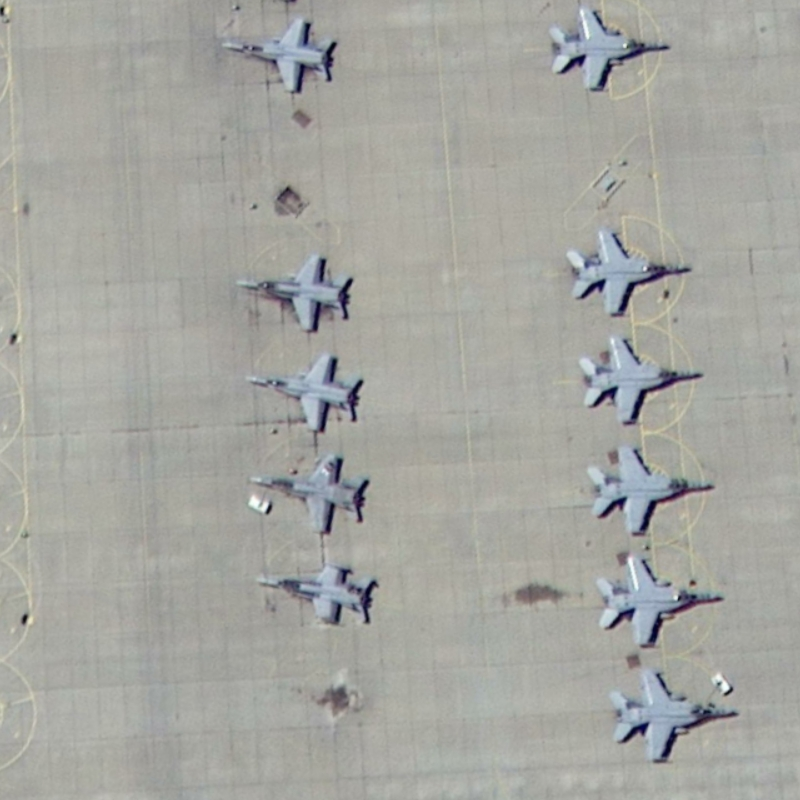A16: (605, 663, 743, 766), (560, 222, 698, 319), (592, 552, 728, 650), (584, 440, 719, 538), (576, 331, 707, 428), (241, 450, 377, 538), (237, 348, 371, 437), (214, 12, 343, 100), (546, 4, 672, 94), (230, 249, 357, 337), (240, 556, 387, 631)
